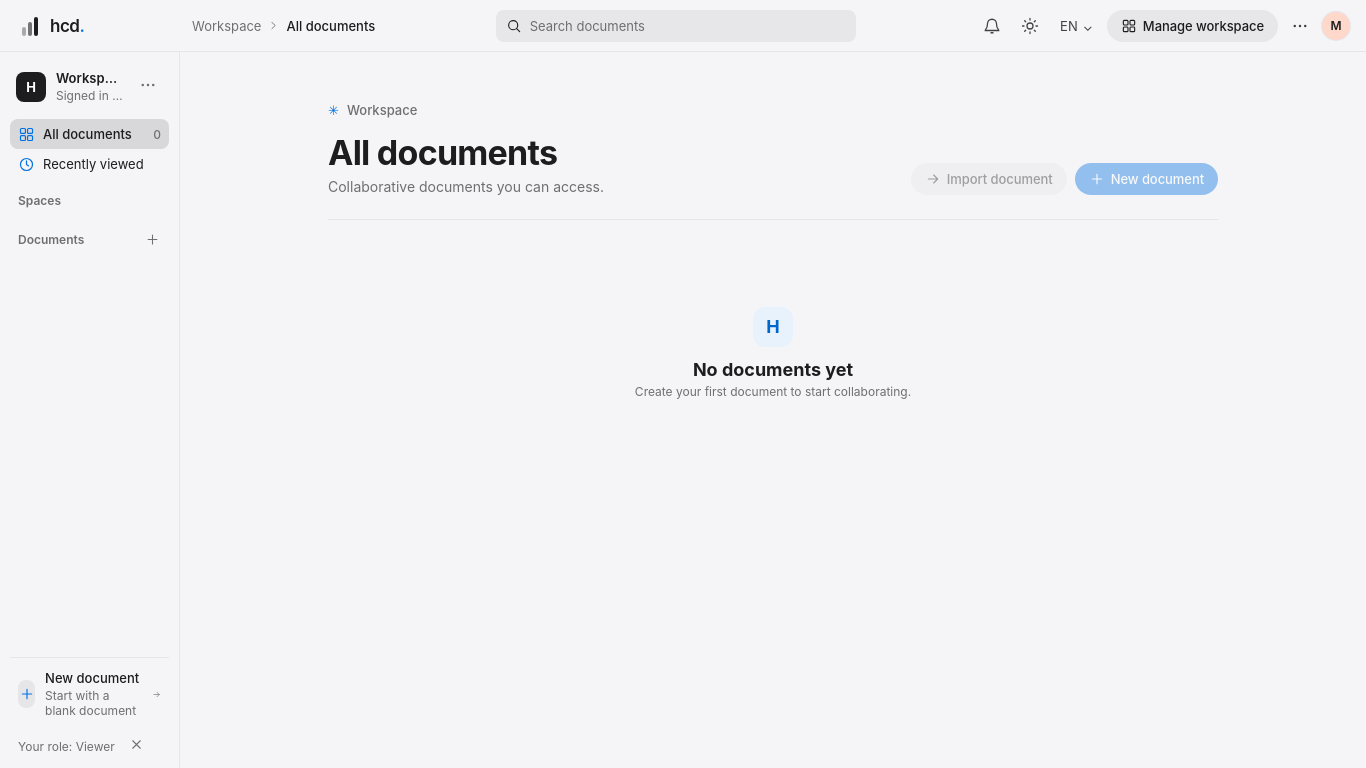
personal account settings integration (synthetic DOM) › B6 confirms logout-all within settings and returns to sign in after success
Click the button named "Settings" at (1300, 26), box left=1284, top=10, right=1316, bottom=42
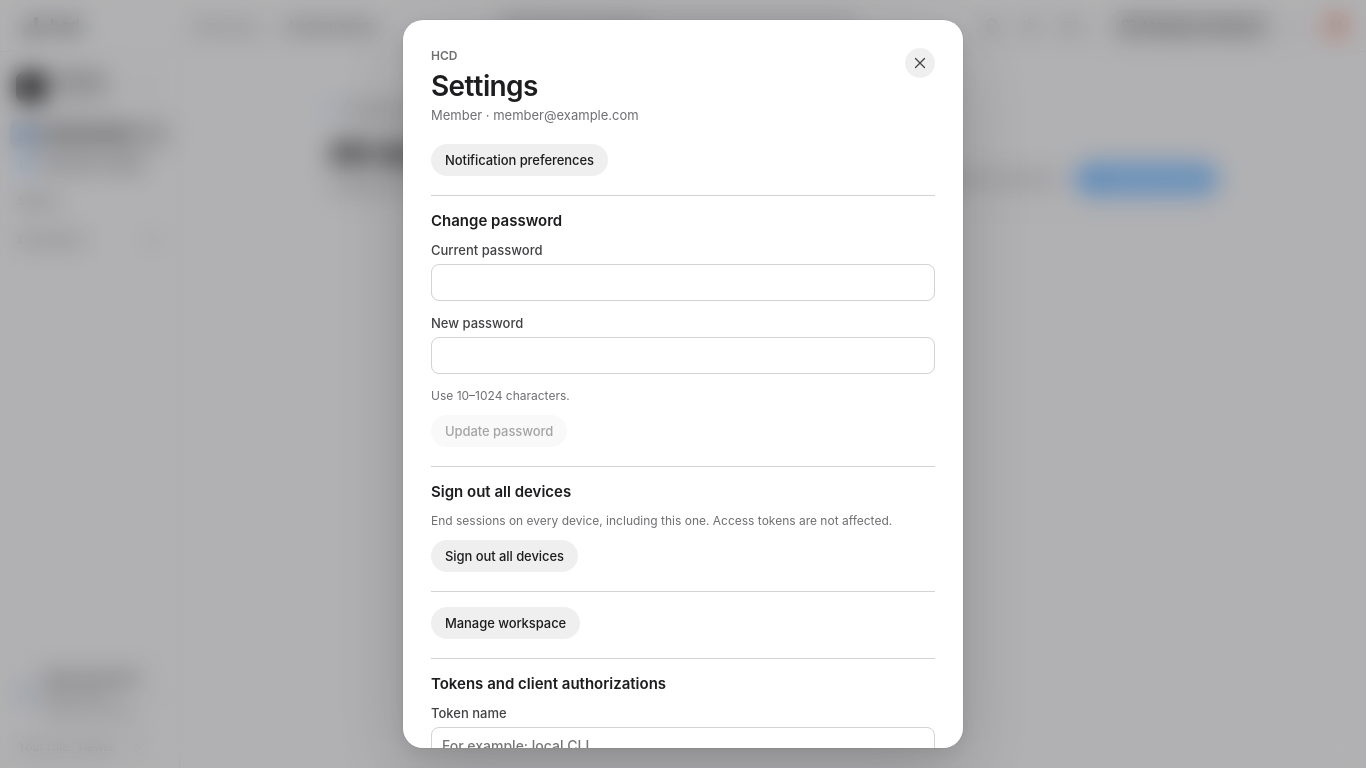
Expected: the button "Sign out all devices" is shown
Click the button "Sign out all devices" at (504, 556), box left=431, top=540, right=578, bottom=572
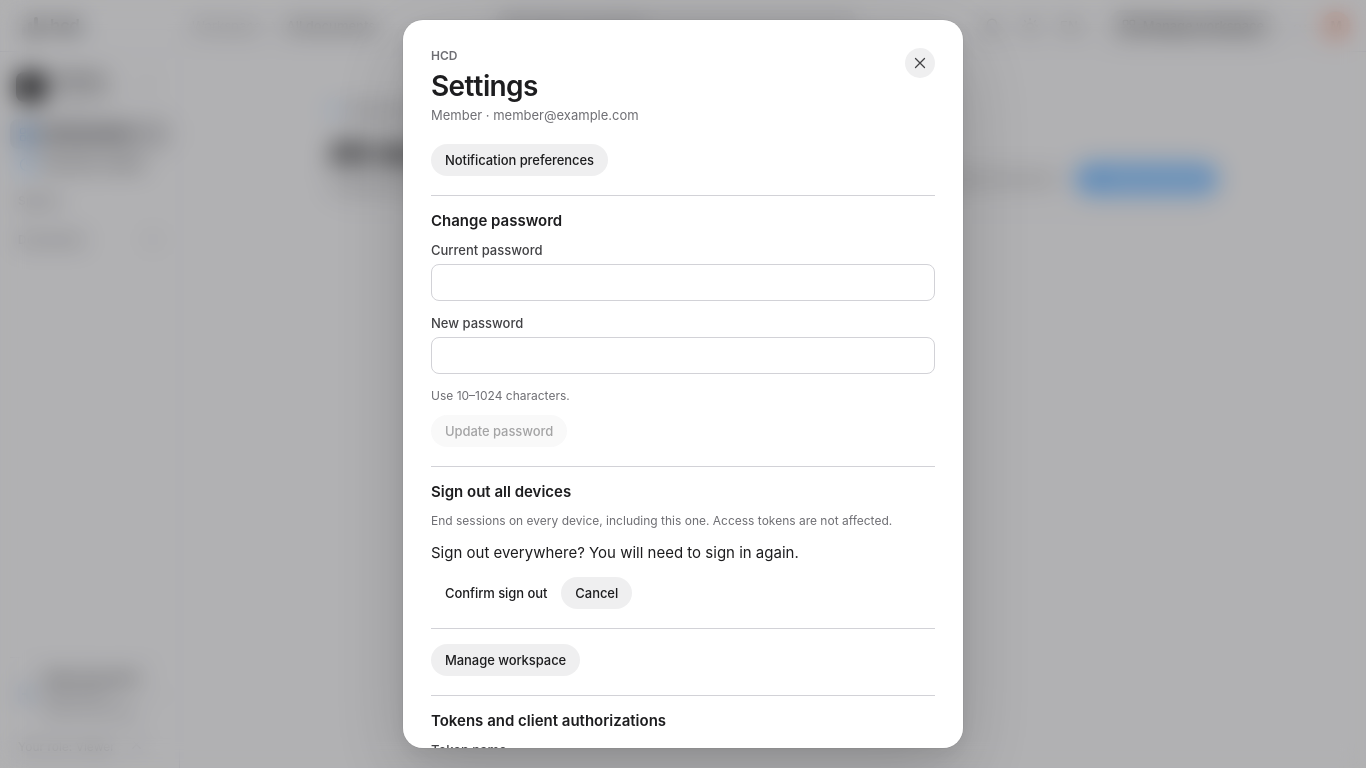
Expected: the button "Confirm sign out" is shown
Click the button "Confirm sign out" at (496, 593), box left=431, top=577, right=561, bottom=609
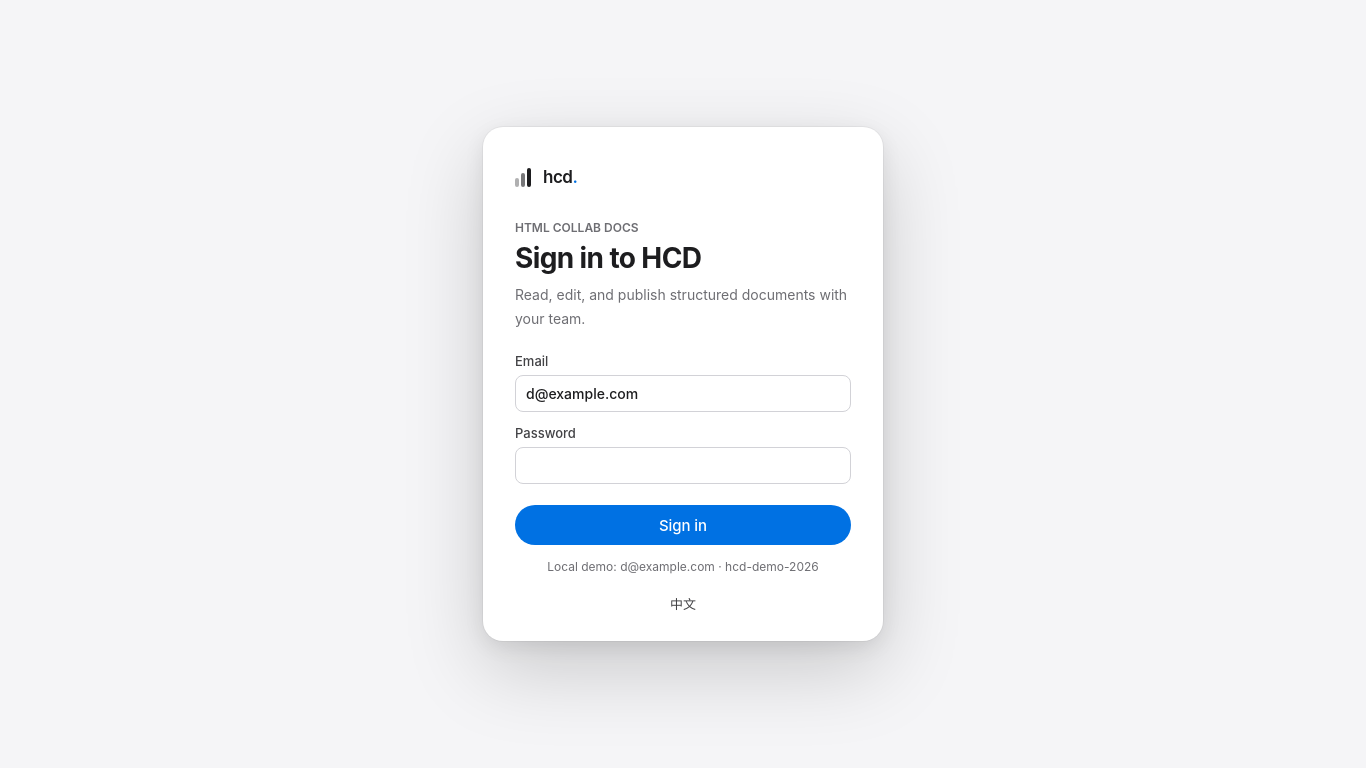
Expected: the dialog with class "settings-modal" is gone
Expected: the form with class "auth-card" shows "Sign in to HCD", left=515, top=241, right=701, bottom=275
